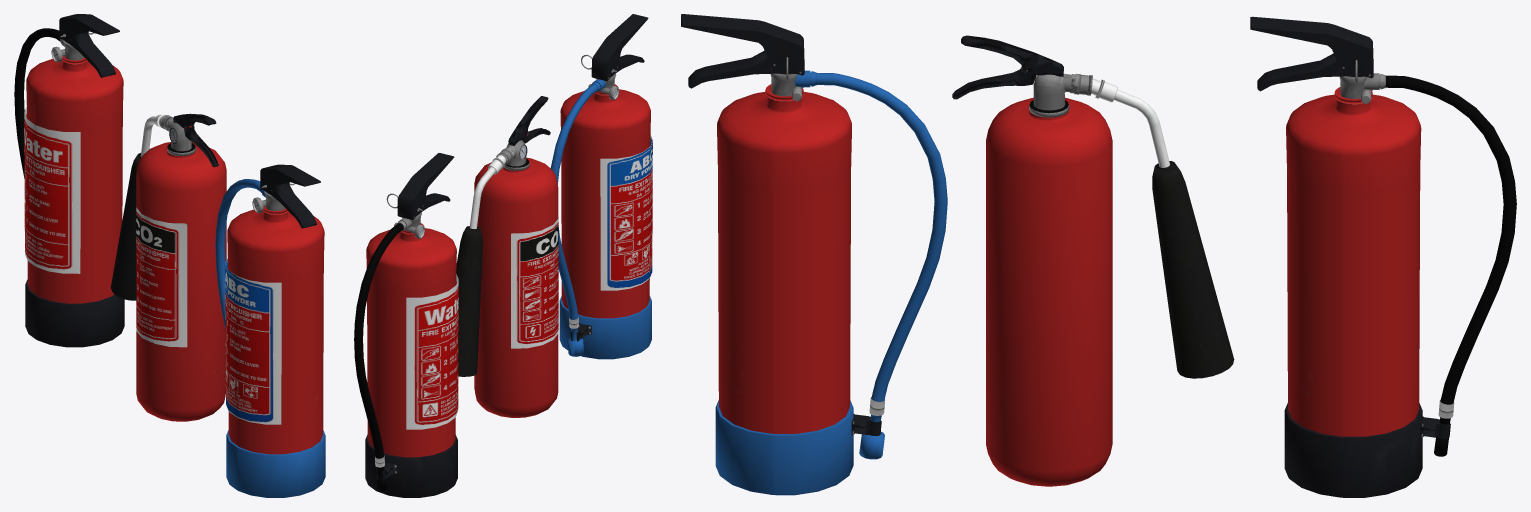
File: Extinguishers.glb
The picture shows the model from 3 angles, left to right: view 1: azimuth 30°, elevation 25°; view 2: azimuth 150°, elevation 25°; view 3: azimuth 270°, elevation 25°; orthographic projection. The views are drawn at different scales.
Visible parts, largest first — view 1: defaultMaterial.001, defaultMaterial, F_fire extinguisher_0; view 2: defaultMaterial, defaultMaterial.001, F_fire extinguisher_0; view 3: defaultMaterial.001, defaultMaterial, F_fire extinguisher_0.
Boxes of the visible parts, left/top/right/bottom form: defaultMaterial.001: left=215, top=164, right=325, bottom=497; defaultMaterial: left=14, top=14, right=124, bottom=347; F_fire extinguisher_0: left=110, top=113, right=226, bottom=421; defaultMaterial: left=354, top=153, right=458, bottom=497; defaultMaterial.001: left=550, top=14, right=652, bottom=359; F_fire extinguisher_0: left=456, top=96, right=558, bottom=417; defaultMaterial.001: left=681, top=14, right=947, bottom=495; defaultMaterial: left=1250, top=16, right=1516, bottom=497; F_fire extinguisher_0: left=952, top=35, right=1234, bottom=486.
Size of the model in its own units: 0.5835 by 2.01 by 3.39.
Materials: 6 (5 with a texture image).
